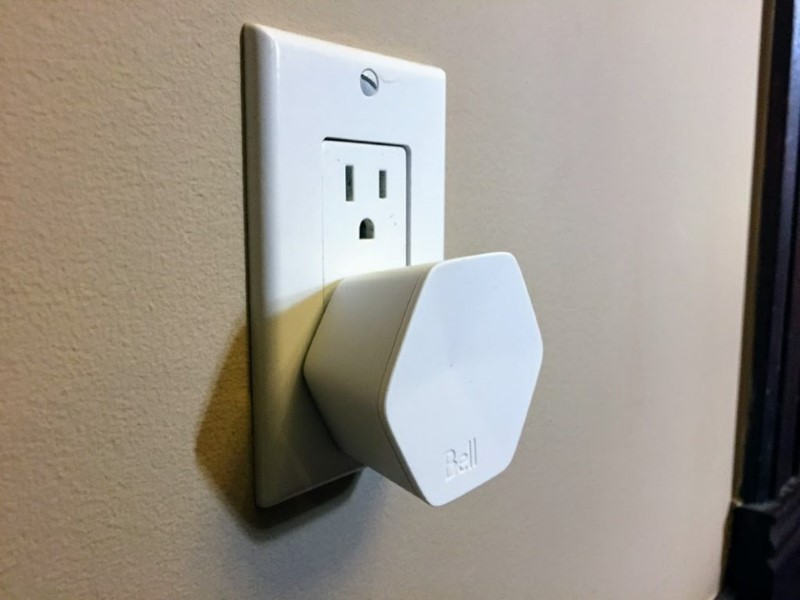pod: (278, 250, 570, 513)
